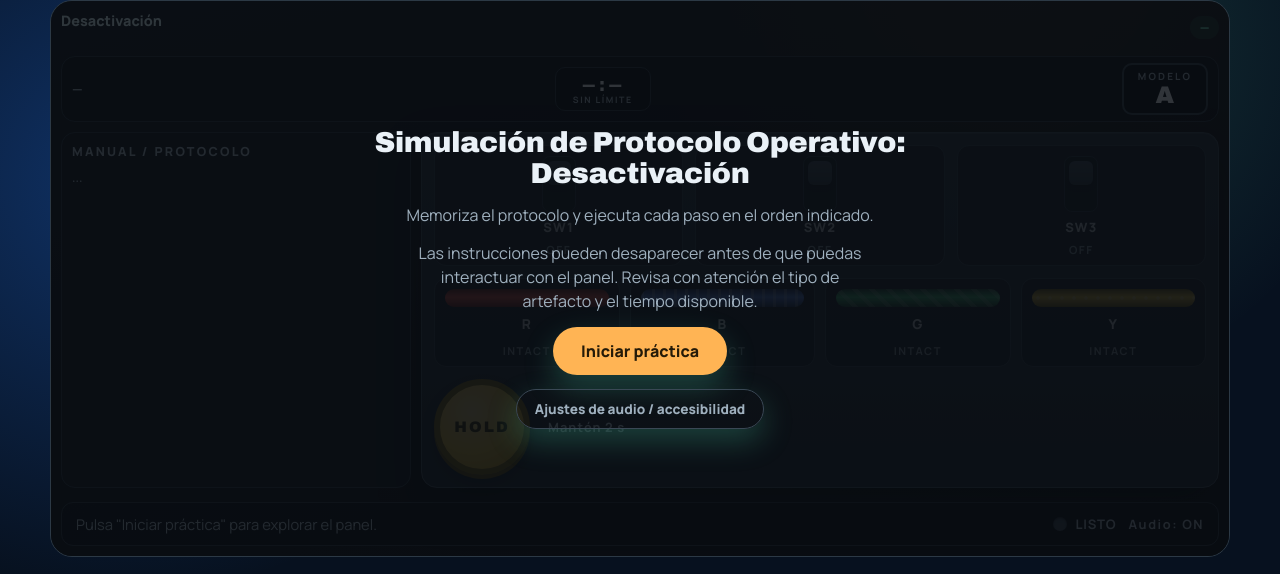
Test: BombDefusalGame — mundo + panel + HUD (B2) › cable: corte irreversible (INTACT→CUT) + disabled + SFX snip + telemetría
Click the button with test id "bomb-start-practice".
click(640, 351)  # box [553,327,727,375]
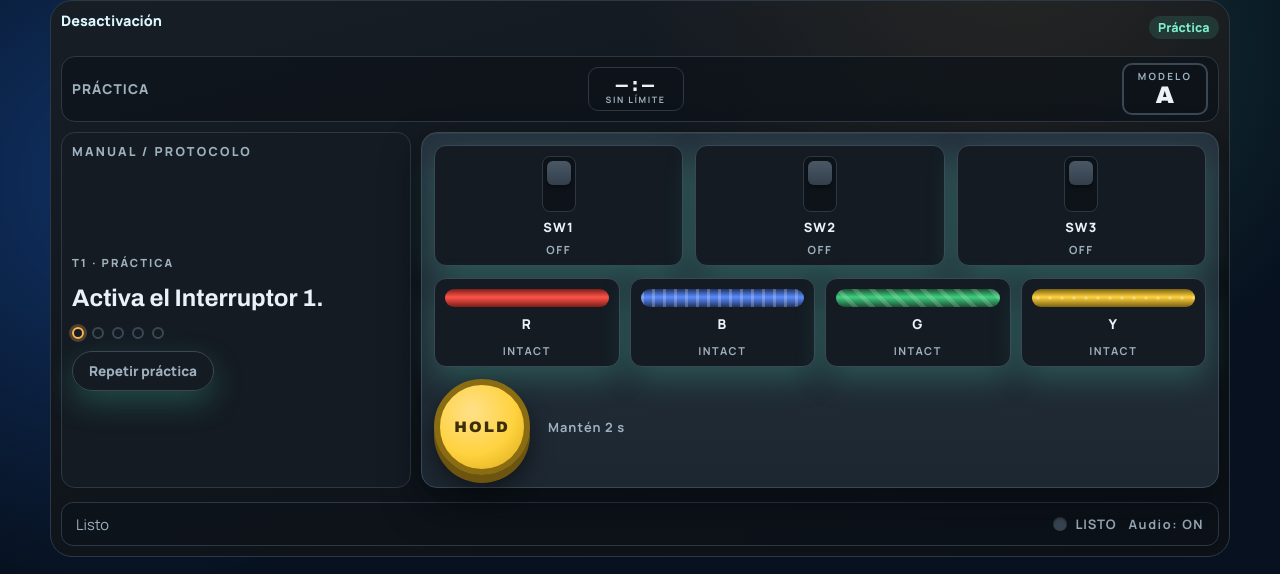
Click the button with test id "bomb-wire-WIRE_RED".
click(527, 322)  # box [434,278,620,367]
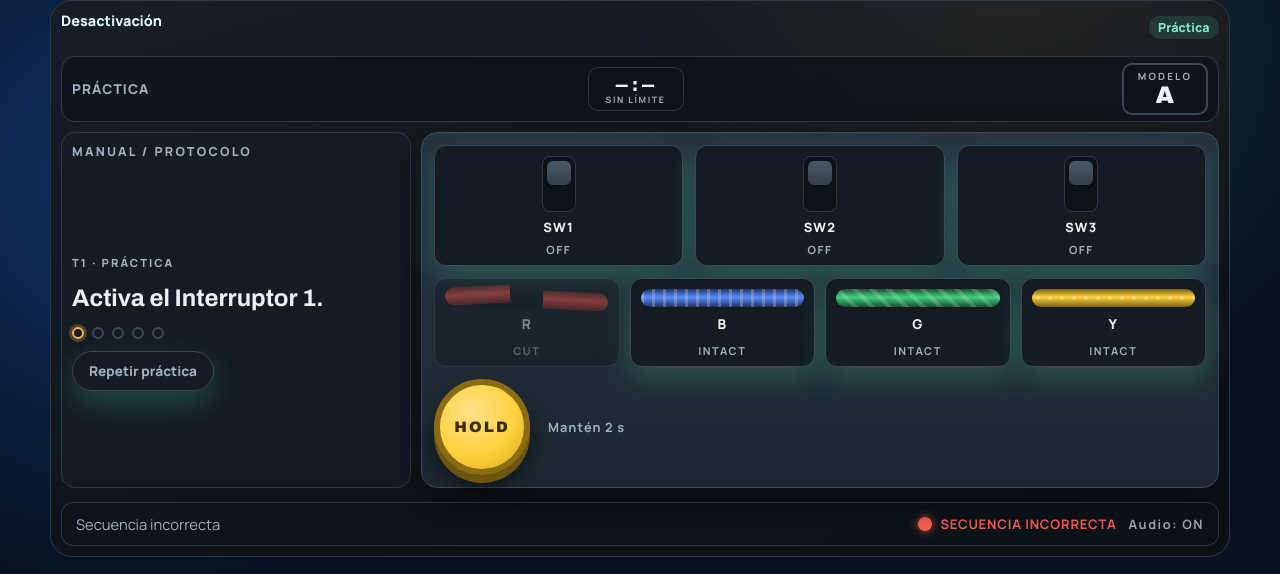
Check: the button with test id "bomb-wire-WIRE_RED" is disabled, box [434,278,620,367]
Check: the button with test id "bomb-wire-WIRE_RED" shows "CUT", box [434,278,620,367]
